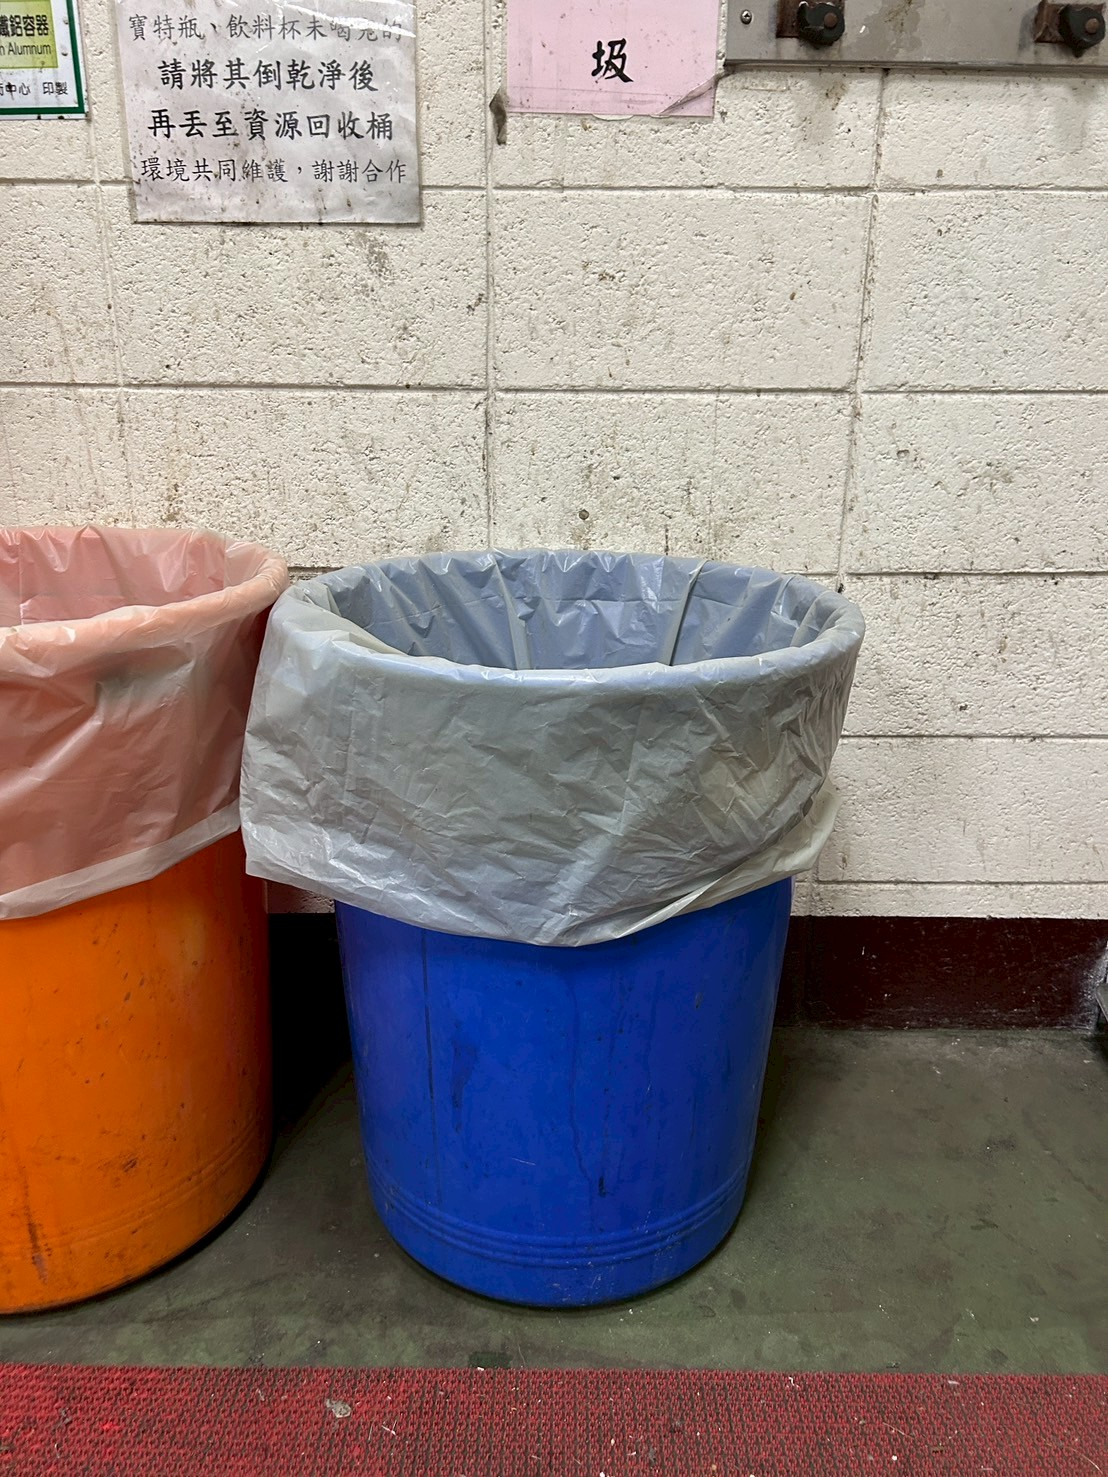normal_bin: (246, 527, 878, 1329)
